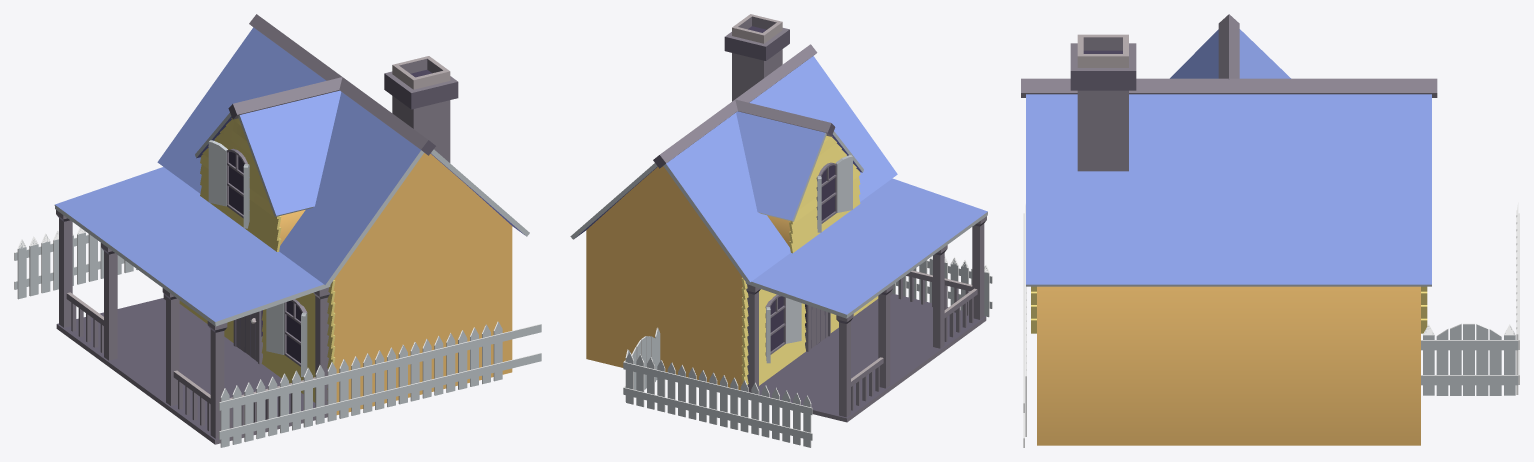
The model's file is codys house.fbx.
3 views of the same model, side by side, from view 1: azimuth 30°, elevation 25°; view 2: azimuth 150°, elevation 25°; view 3: azimuth 270°, elevation 25° (orthographic). The views are drawn at different scales.
Visible parts, largest first — view 1: pCube1, pCube10, pCube2, pCube11, pCube6, pCube49, pCube60 (×3), pCube61 (×3), pCube9, pCube15, pCube4, pCube13 (+16 smaller); view 2: pCube1, pCube10, pCube2, pCube11, pCube7, pCube49, pCube9, pCube60 (×2), pCube61 (×2), pCube12, pCube15, pCube13 (+15 smaller); view 3: pCube3, pCube1, pCube49, pCube9, pCube7, pCube4, pCube6, pCube63, pCube70, pCube62, pCube64, pCube66 (+4 smaller).
Boxes of the visible parts, x1,y1,x2,y2 form: pCube1: (333,153,512,414); pCube10: (54,167,330,326); pCube2: (157,27,424,287); pCube11: (56,298,327,444); pCube6: (238,90,341,216); pCube49: (384,56,458,162); pCube60 (×3): (219,324,541,410); pCube61 (×3): (219,353,541,439); pCube9: (249,14,435,155); pCube15: (101,243,117,360); pCube4: (228,77,342,119); pCube13: (207,321,227,438); pCube1: (586,166,742,390); pCube10: (745,178,987,318); pCube2: (663,56,897,284); pCube11: (759,293,986,422); pCube7: (736,111,826,221); pCube49: (724,14,789,101); pCube9: (653,44,817,168); pCube60 (×2): (623,362,812,414); pCube61 (×2): (623,387,812,440); pCube12: (836,314,853,417); pCube15: (878,285,892,388); pCube13: (972,216,986,319); pCube3: (1026,94,1431,286); pCube1: (1037,286,1420,445); pCube49: (1070,34,1136,171); pCube9: (1021,78,1437,97); pCube7: (1239,29,1290,78); pCube4: (1218,14,1239,78); pCube6: (1170,29,1218,78); pCube63: (1421,375,1518,385); pCube70: (1421,340,1518,350); pCube62: (1476,323,1488,395); pCube64: (1463,323,1474,395); pCube66: (1450,323,1461,395).
Size of the model in its own units: 8.77 by 7.81 by 9.73.
